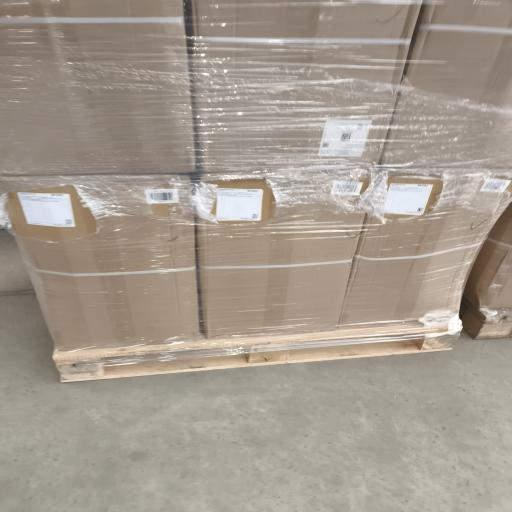pallet: (54, 323, 456, 381), (461, 303, 511, 339)
